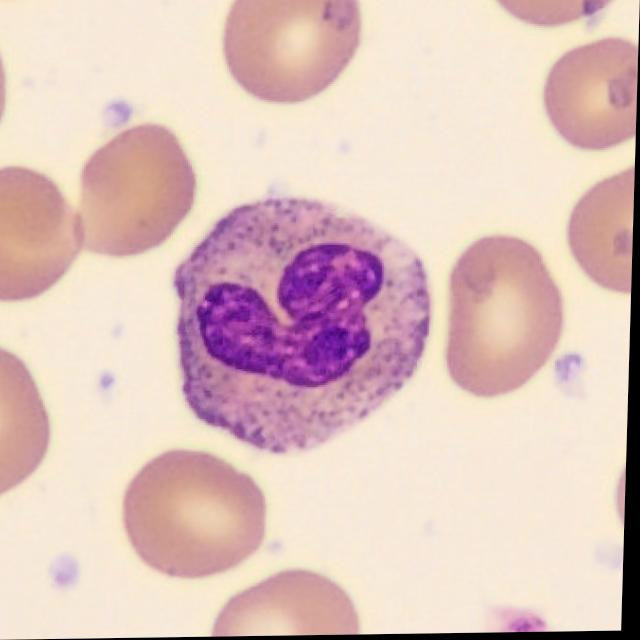Neutrofilo segmentado: (175, 199, 433, 457)
